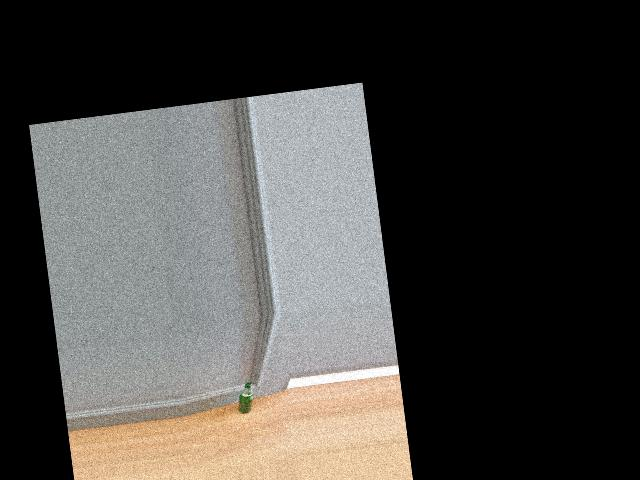beer: (235, 382, 255, 414)
